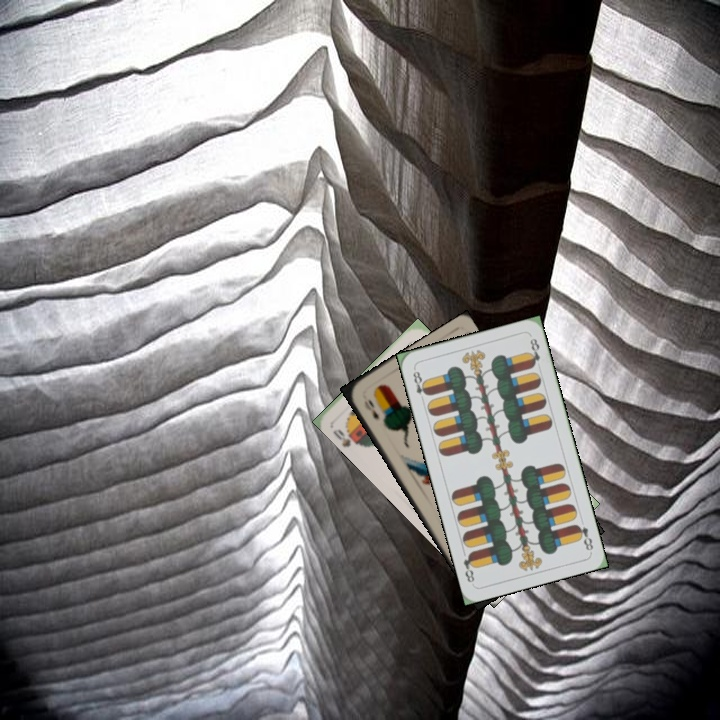E8: (409, 364, 431, 405), (571, 520, 596, 554)
EO: (360, 395, 382, 422)
SO: (329, 425, 366, 450)
